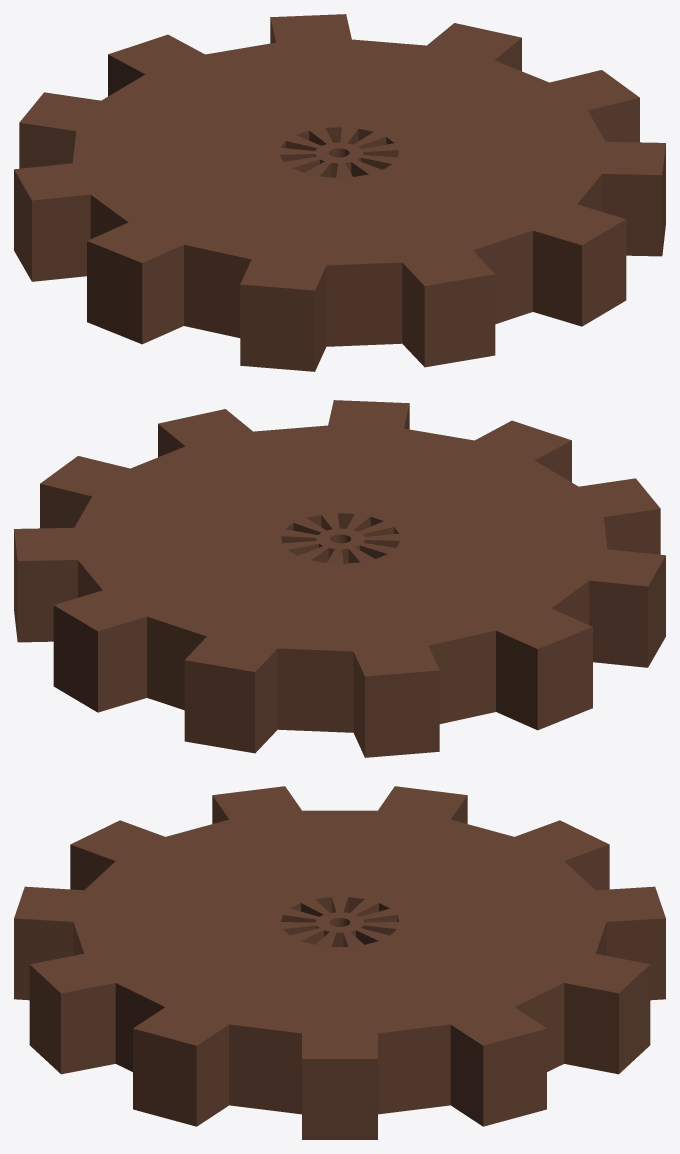
The model's file is Engrenage.fbx.
The picture shows the model from 3 angles, top to bottom: view 1: azimuth 30°, elevation 25°; view 2: azimuth 150°, elevation 25°; view 3: azimuth 270°, elevation 25°; orthographic projection.
Visible parts, largest first — view 1: rouage principal; view 2: rouage principal; view 3: rouage principal.
Part boxes in pixels (bbox=[...]): rouage principal: bbox=[14, 14, 665, 371]; rouage principal: bbox=[14, 400, 665, 757]; rouage principal: bbox=[14, 786, 665, 1139].
Size of the model in its own units: 656 by 90.73 by 662.
